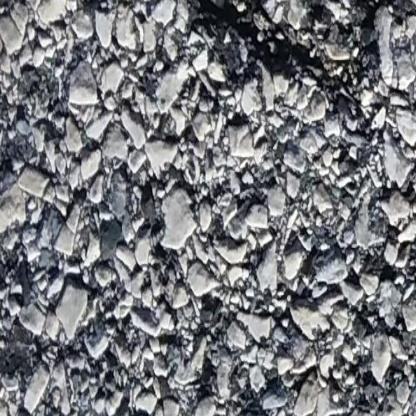Cracks: (164, 0, 416, 118)
